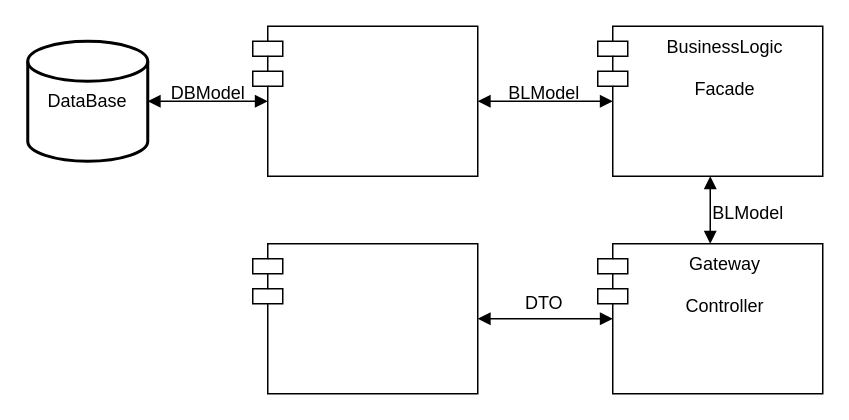
Some shapes in this 849 by 420 pixel diagram are drawn without their labels. Here are the shapes that lost their labels. From the top down, the centre of each, then its label:
At (x=364, y=100): "DataAccess DataBase Context, Repositories, reposirories' factories".
At (x=364, y=318): "UserInterface WinForms".
